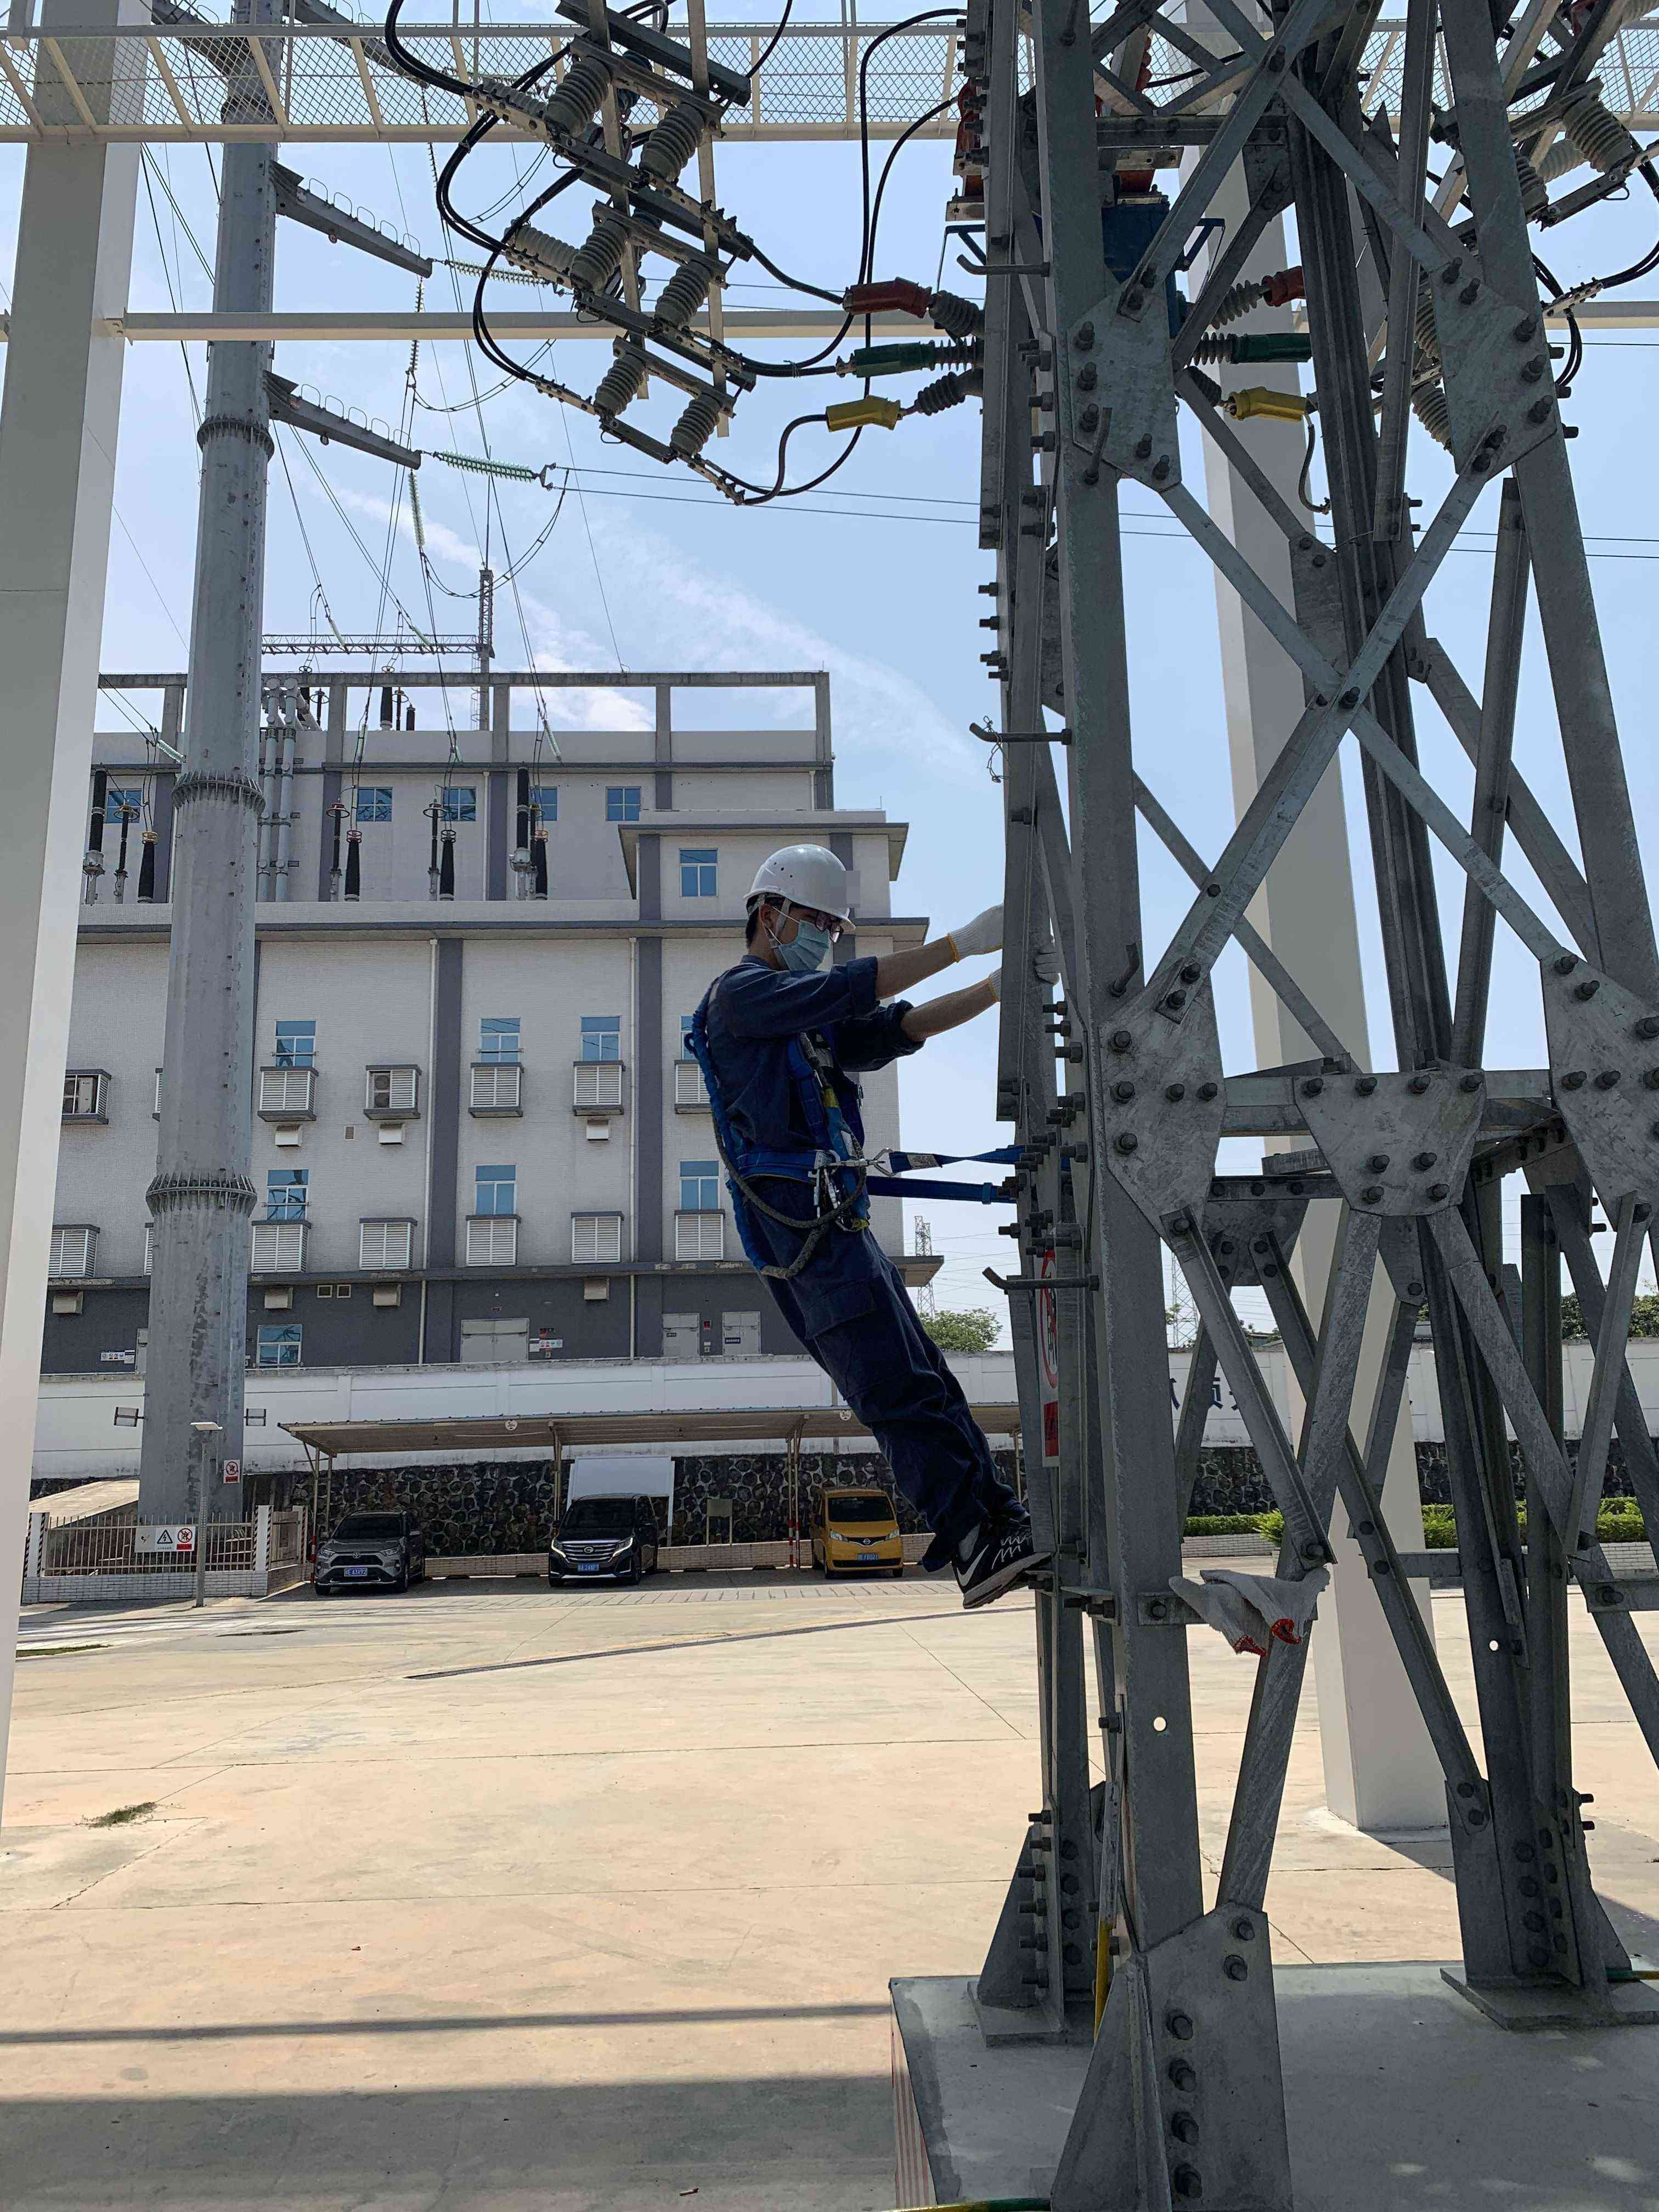downsuit: (730, 1188, 1030, 1576)
upsuit: (683, 958, 927, 1226)
wrongtop: (833, 934, 960, 1021), (878, 984, 995, 1069)
